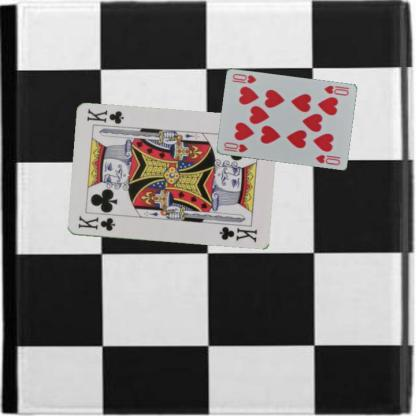10h: (321, 83, 350, 97), (221, 140, 249, 154)
Kc: (76, 213, 116, 232)
